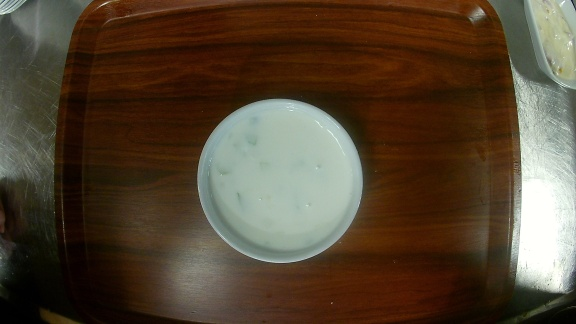cacik: (196, 98, 365, 264)
